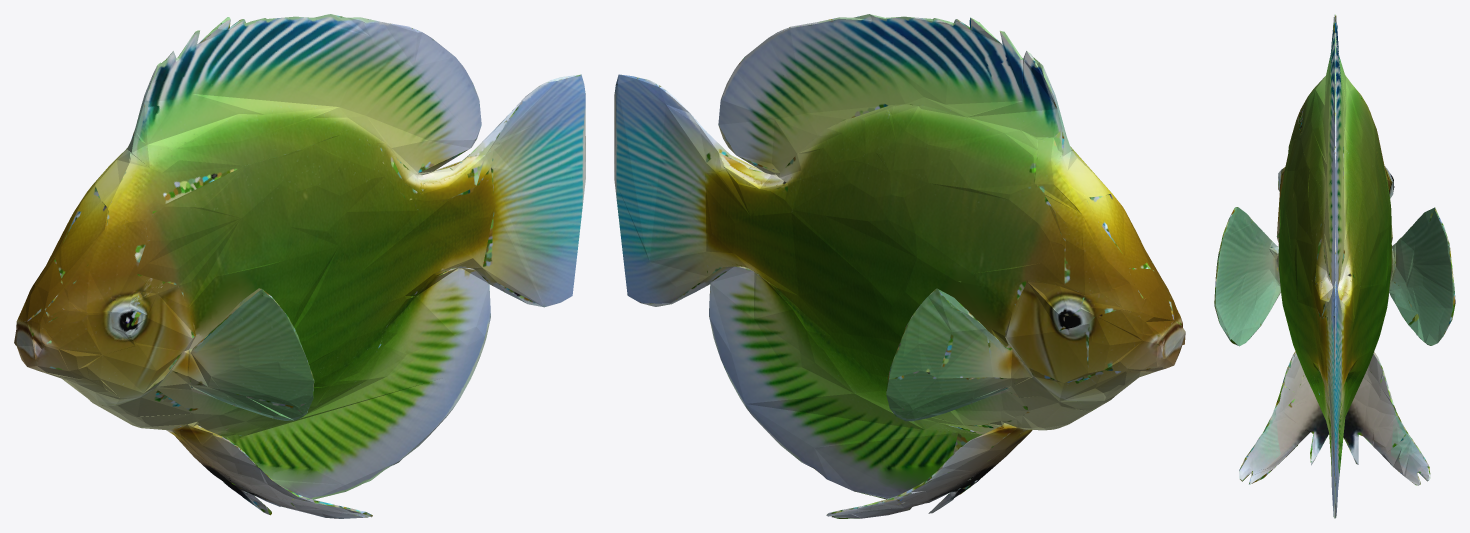
The model's file is fish_0026_smpl23_resized.glb.
3 renders of one model, left to right at view 1: azimuth 30°, elevation 25°; view 2: azimuth 150°, elevation 25°; view 3: azimuth 270°, elevation 25°, orthographic. The views are drawn at different scales.
Parts seen in each view (by area): view 1: world; view 2: world; view 3: world.
Boxes of the visible parts, box(x1,y1,x2,y2) form: world: box(14, 14, 585, 518); world: box(614, 14, 1185, 518); world: box(1214, 14, 1455, 518).
Size of the model in its own units: 1.99 by 1.7 by 0.8494.
1 material, 1 textured.
